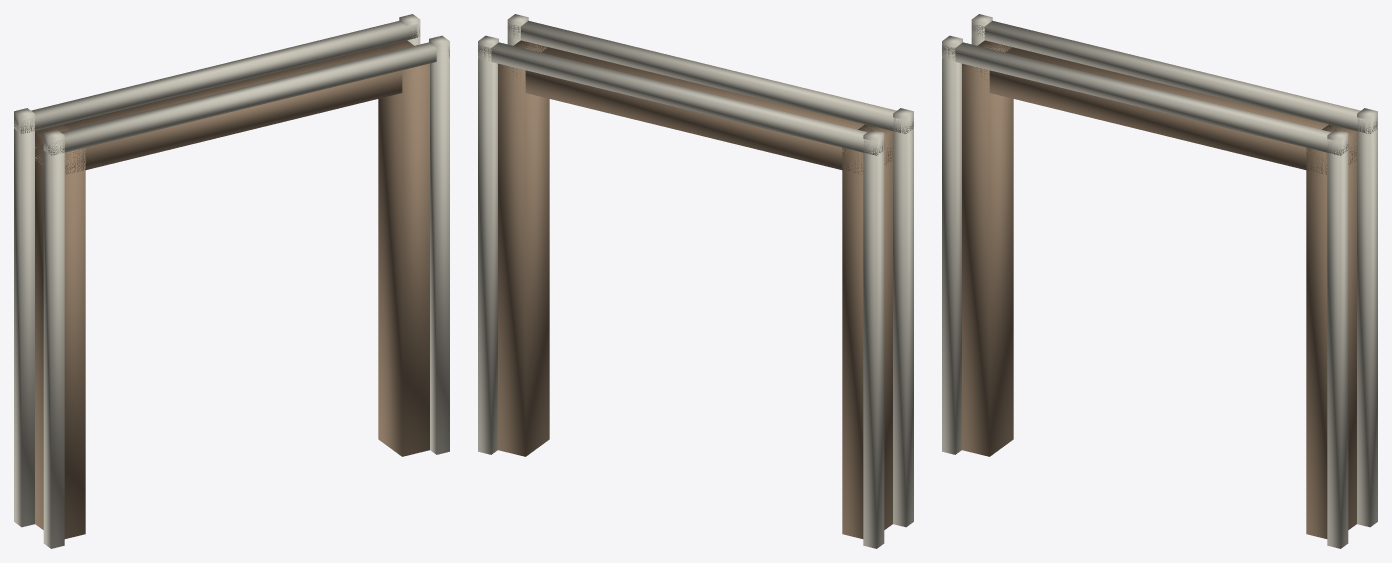
File: doorway_painted_trim_w182_h200_d24.glb
3 views of the same model, side by side, from view 1: azimuth 30°, elevation 25°; view 2: azimuth 150°, elevation 25°; view 3: azimuth 330°, elevation 25° (orthographic).
Parts seen in each view (by area): view 1: world; view 2: world; view 3: world.
Boxes of the visible parts, x1,y1,x2,y2 form: world: (14, 14, 449, 548); world: (478, 14, 913, 548); world: (942, 14, 1377, 548).
Size of the model in its own units: 2.29 by 2.26 by 0.3706.
